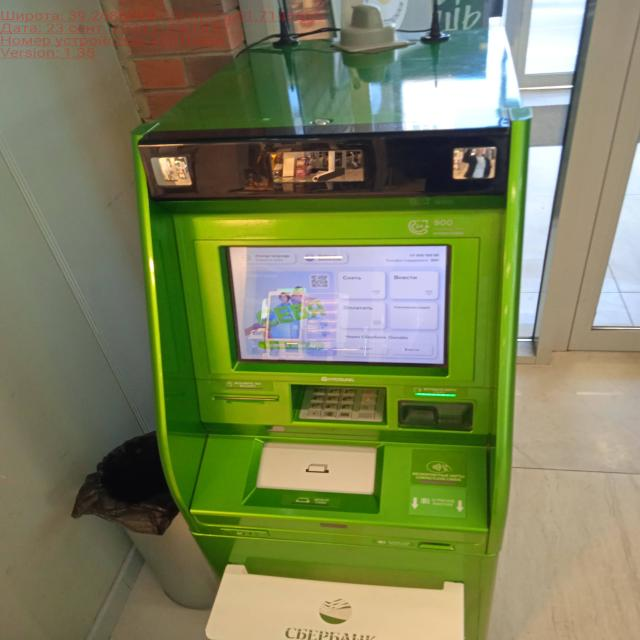bank: (133, 38, 525, 640)
